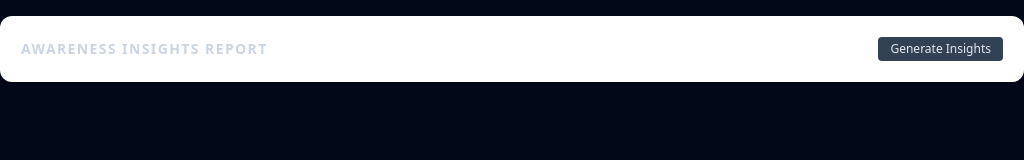
AwarenessInsightsReport — loading state › disables button and shows spinner while loading
The width and height of the screenshot is (1024, 160).
Click the button "Generate Insights".
click(941, 49)  # box [878,37,1003,61]
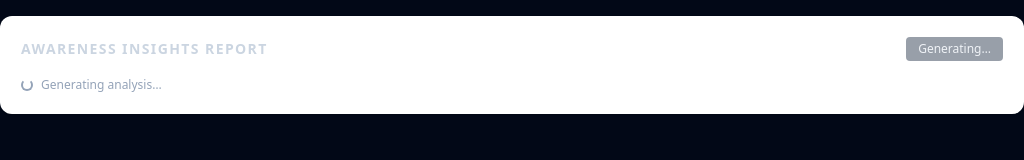
Expected: the button is disabled, [906,37,1003,61]
Expected: the element with test id "awareness-spinner" is shown, [21,76,162,93]
